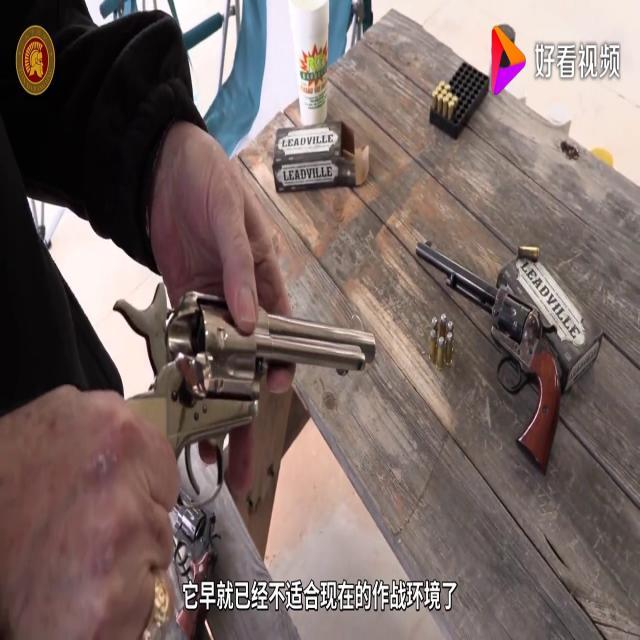gun-knife-thesis - v11 Yolov5 augmented: (80, 253, 378, 625), (410, 225, 562, 486)
